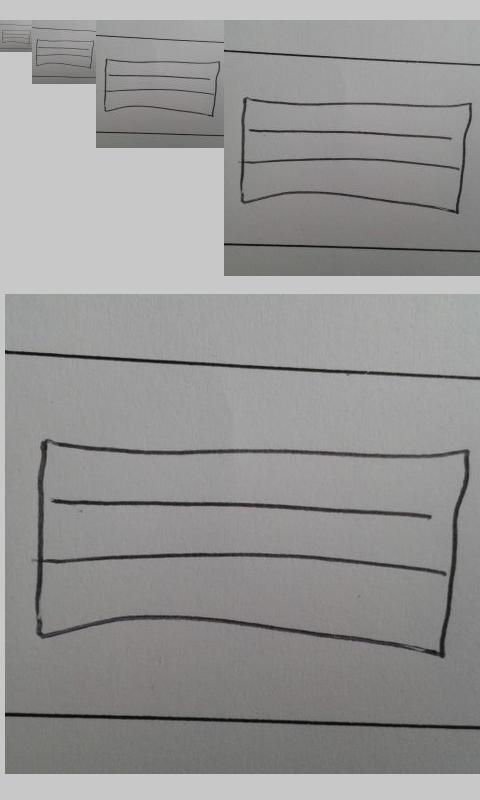list_view: (32, 437, 471, 662), (238, 96, 473, 217), (103, 57, 221, 118), (35, 38, 96, 69), (1, 29, 32, 45)
